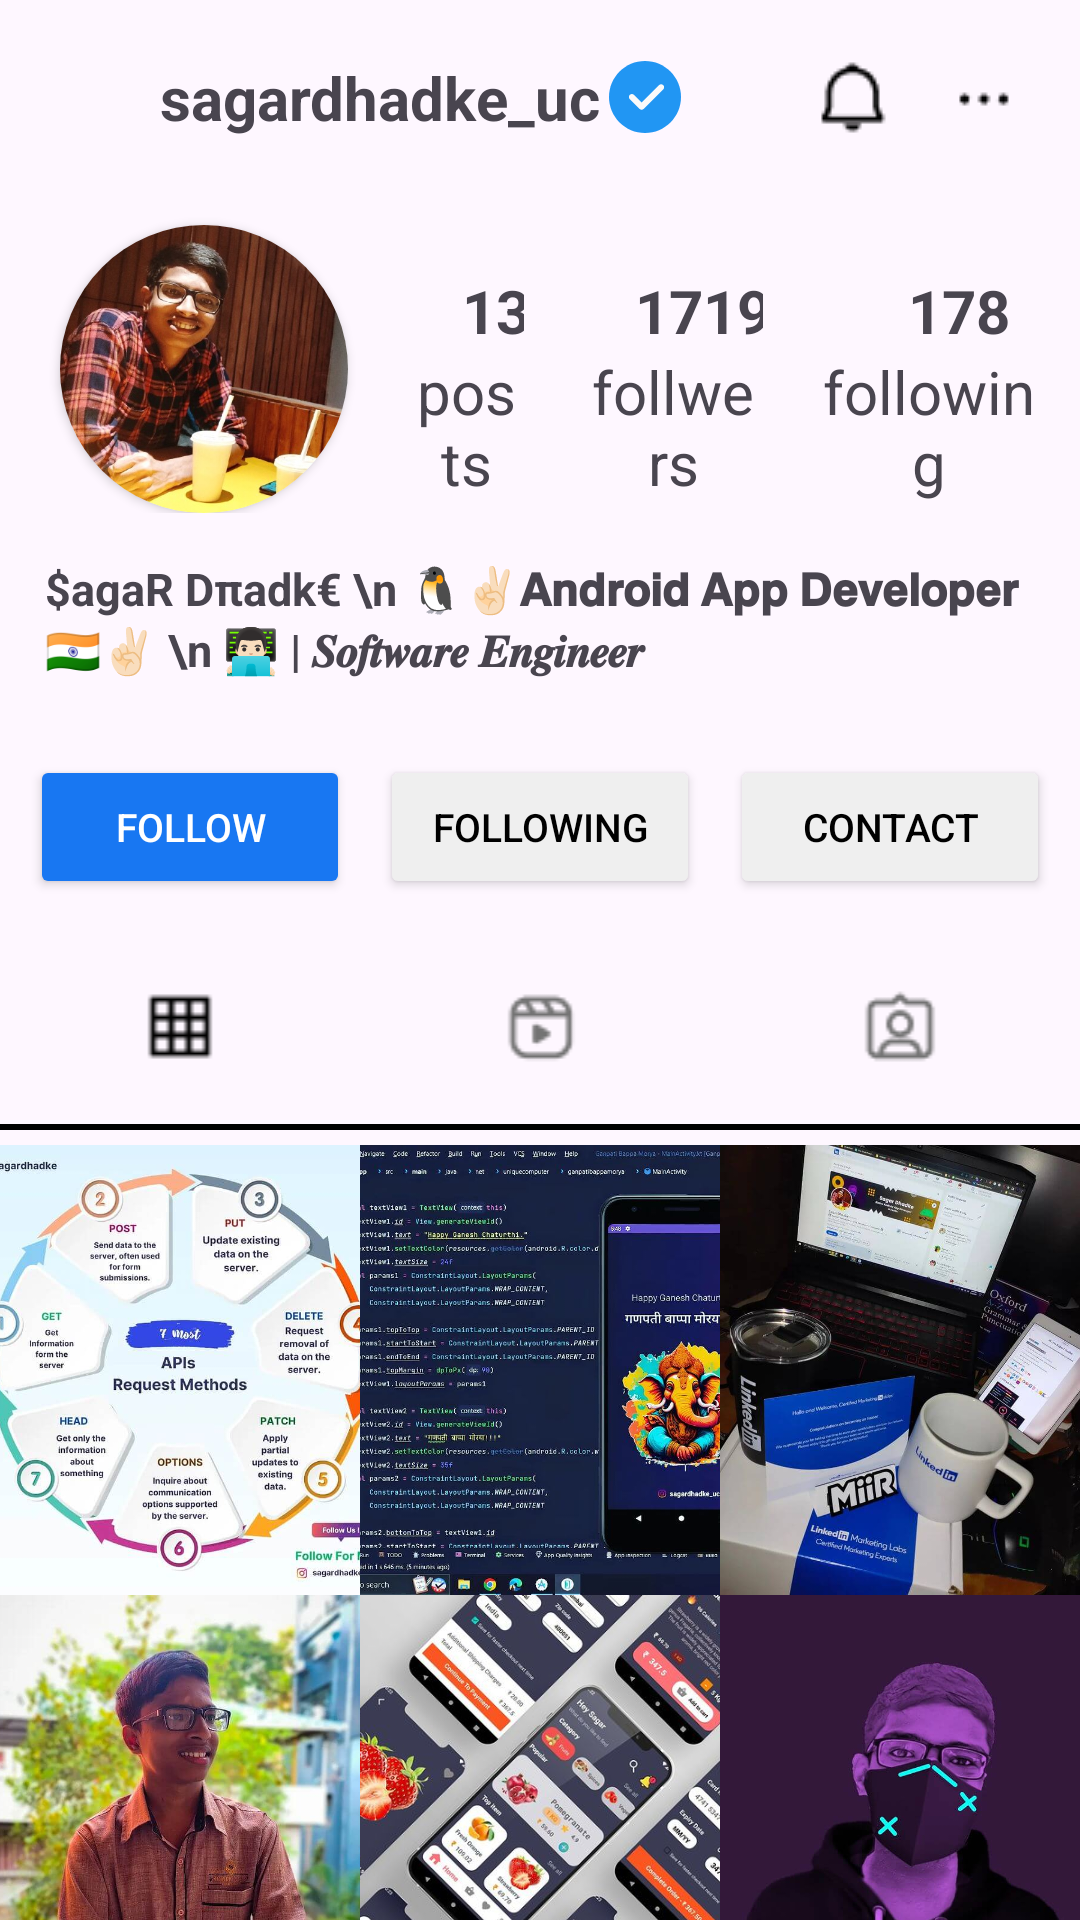

Named icons in this screenshot (1080 x 1920) and their centers, point (x, y):
alert: point (853, 97)
grid: point (180, 1026)
reels: point (540, 1027)
tags: point (900, 1026)
three dot: point (984, 99)
